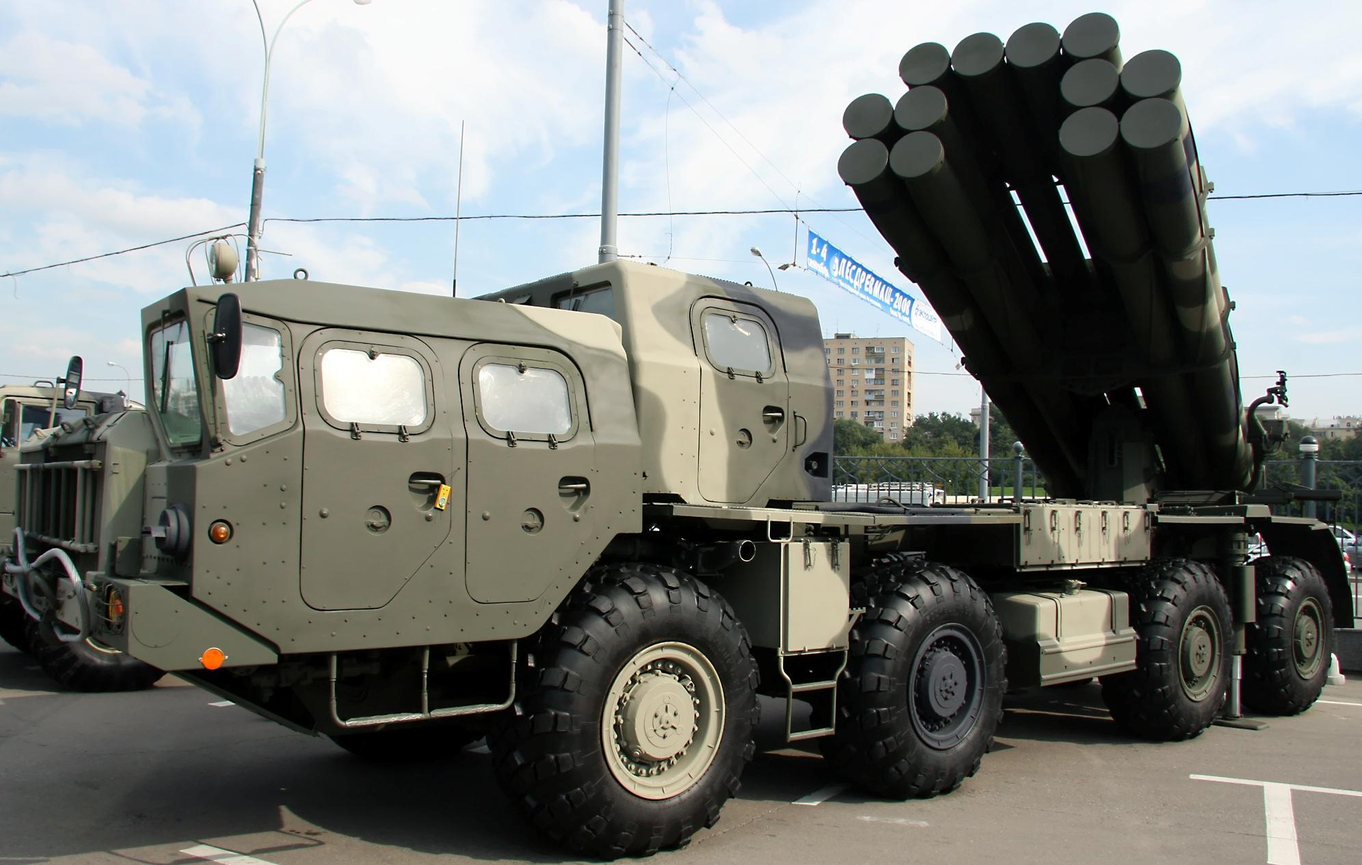rszo: (16, 27, 1319, 848)
